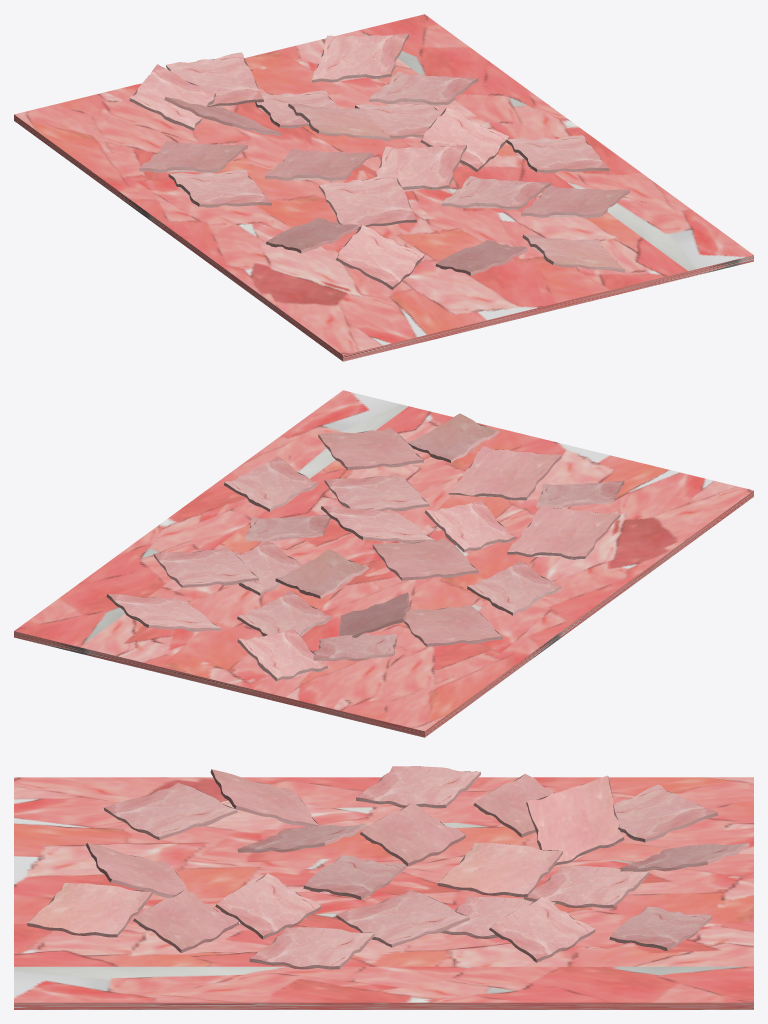
The model's file is ham_hoopje_alt.glb.
The picture shows the model from 3 angles, top to bottom: view 1: azimuth 30°, elevation 25°; view 2: azimuth 150°, elevation 25°; view 3: azimuth 270°, elevation 25°; orthographic projection. The views are drawn at different scales.
Parts seen in each view (by area): view 1: Cube, Cube.146, Cube.160, Cube.133, Cube.143, Cube.137, Cube.140, Cube.153, Cube.097, Cube.141, Cube.144, Cube.159 (+10 smaller); view 2: Cube, Cube.152, Cube.151, Cube.147, Cube.136, Cube.156, Cube.159, Cube.144, Cube.097, Cube.141, Cube.146, Cube.137 (+10 smaller); view 3: Cube, Cube.088, Cube.145, Cube.158, Cube.133, Cube.153, Cube.159, Cube.144, Cube.141, Cube.097, Cube.136, Cube.147 (+10 smaller).
Part boxes in pixels (x1,y1,x2,y2): Cube: [14, 14, 753, 361]; Cube.146: [319, 173, 416, 229]; Cube.160: [312, 33, 408, 82]; Cube.133: [335, 225, 424, 289]; Cube.143: [375, 145, 466, 191]; Cube.137: [166, 52, 263, 106]; Cube.140: [129, 64, 215, 130]; Cube.153: [420, 107, 508, 171]; Cube.097: [168, 169, 271, 207]; Cube.141: [506, 135, 609, 173]; Cube.144: [441, 176, 550, 209]; Cube.159: [369, 71, 478, 105]; Cube: [14, 390, 753, 737]; Cube.152: [507, 505, 620, 559]; Cube.151: [448, 446, 561, 500]; Cube.147: [318, 428, 423, 470]; Cube.136: [372, 538, 478, 580]; Cube.156: [404, 604, 502, 646]; Cube.159: [153, 547, 258, 587]; Cube.144: [324, 473, 429, 511]; Cube.097: [467, 560, 561, 615]; Cube.141: [224, 457, 318, 511]; Cube.146: [424, 500, 515, 552]; Cube.137: [237, 629, 327, 681]; Cube: [14, 777, 753, 1009]; Cube.088: [526, 775, 624, 866]; Cube.145: [27, 883, 152, 937]; Cube.158: [437, 843, 562, 897]; Cube.133: [103, 783, 237, 840]; Cube.153: [336, 890, 469, 947]; Cube.159: [489, 896, 595, 962]; Cube.144: [215, 873, 321, 939]; Cube.141: [249, 927, 374, 969]; Cube.097: [356, 766, 480, 808]; Cube.136: [360, 802, 465, 866]; Cube.147: [133, 889, 238, 952].
Size of the model in its own units: 1.05 by 0.1224 by 1.45.
5 materials, 5 textured.
